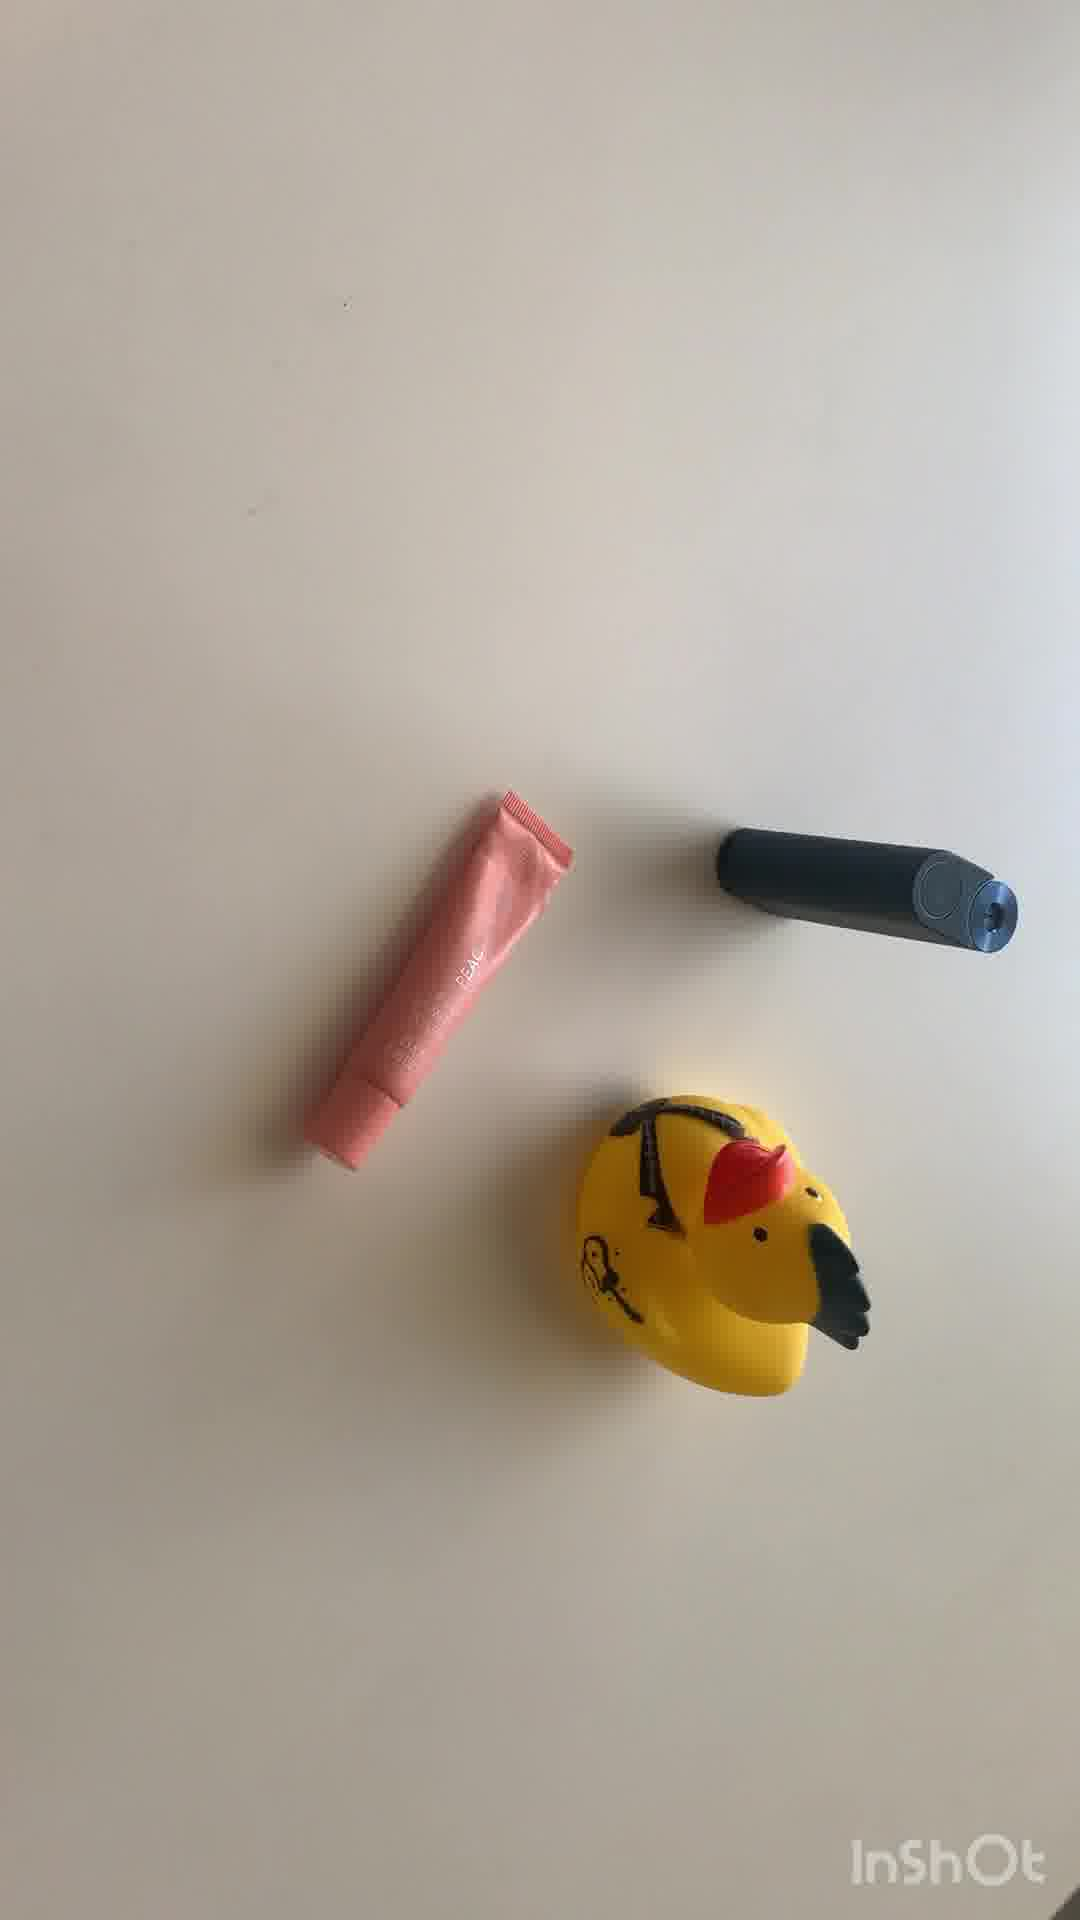duck: (568, 1093, 866, 1408)
glo: (717, 822, 1015, 972)
lip balm: (309, 790, 574, 1172)
